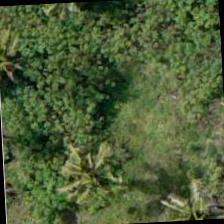Kelapa_Sawit: (48, 131, 144, 223), (0, 13, 52, 107), (152, 170, 223, 223)
